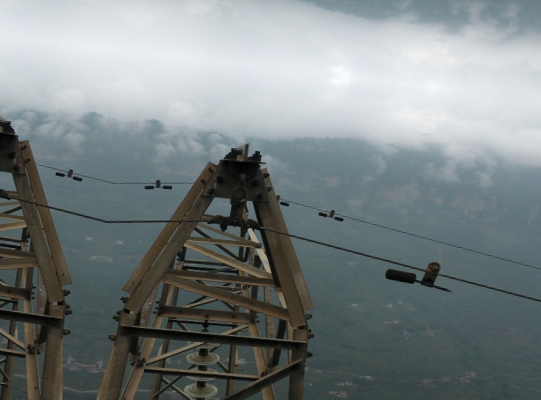damper: (54, 168, 83, 181), (143, 178, 174, 190), (317, 209, 345, 222)
damper_defect: (383, 260, 455, 295)
